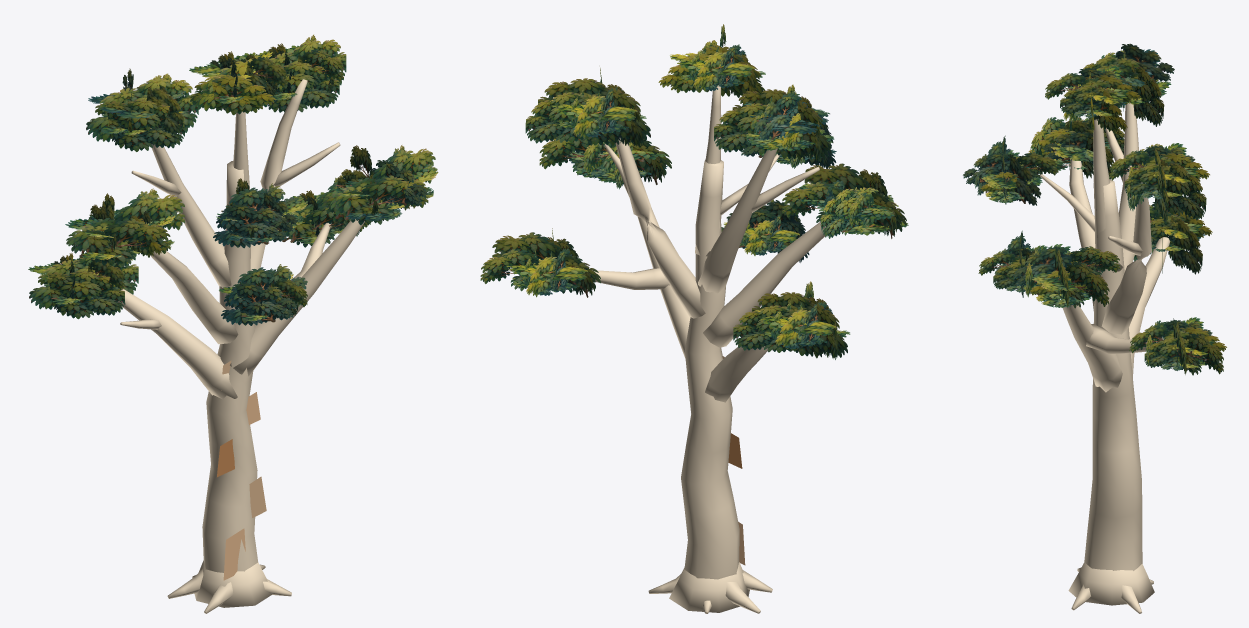
File: TREE_EUCALYPTUS_001_v006_LOD_GAMEPLAY.glb
3 views of the same model, side by side, from view 1: azimuth 30°, elevation 25°; view 2: azimuth 150°, elevation 25°; view 3: azimuth 270°, elevation 25° (orthographic). The views are drawn at different scales.
Visible parts, largest first — view 1: TREE_EUCALYPTUS_001_GAMEPLAY_AUTHORED_FOLIAGE_ISLANDS, TREE_EUCALYPTUS_001_GAMEPLAY_MAIN_TRUNK, TREE_EUCALYPTUS_001_GAMEPLAY_LOWER_LEFT_SWEEP, TREE_EUCALYPTUS_001_GAMEPLAY_MID_RIGHT_SWEEP, TREE_EUCALYPTUS_001_GAMEPLAY_UPPER_LEFT_FORK, TREE_EUCALYPTUS_001_GAMEPLAY_MID_LEFT_ARCH, TREE_EUCALYPTUS_001_GAMEPLAY_GRAPHIC_BARK, TREE_EUCALYPTUS_001_GAMEPLAY_SCULPTED_ROOT_COLLAR, TREE_EUCALYPTUS_001_GAMEPLAY_UPPER_RIGHT_ARCH, TREE_EUCALYPTUS_001_GAMEPLAY_CENTRAL_CROWN_FORK, TREE_EUCALYPTUS_001_GAMEPLAY_RIGHT_TOP_SUPPORT; view 2: TREE_EUCALYPTUS_001_GAMEPLAY_AUTHORED_FOLIAGE_ISLANDS, TREE_EUCALYPTUS_001_GAMEPLAY_MAIN_TRUNK, TREE_EUCALYPTUS_001_GAMEPLAY_UPPER_RIGHT_ARCH, TREE_EUCALYPTUS_001_GAMEPLAY_MID_LEFT_ARCH, TREE_EUCALYPTUS_001_GAMEPLAY_UPPER_LEFT_FORK, TREE_EUCALYPTUS_001_GAMEPLAY_SCULPTED_ROOT_COLLAR, TREE_EUCALYPTUS_001_GAMEPLAY_LOWER_LEFT_SWEEP, TREE_EUCALYPTUS_001_GAMEPLAY_MID_RIGHT_SWEEP, TREE_EUCALYPTUS_001_GAMEPLAY_LOWER_RIGHT_REACH, TREE_EUCALYPTUS_001_GAMEPLAY_CENTRAL_CROWN_FORK, TREE_EUCALYPTUS_001_GAMEPLAY_LEFT_TOP_SUPPORT; view 3: TREE_EUCALYPTUS_001_GAMEPLAY_AUTHORED_FOLIAGE_ISLANDS, TREE_EUCALYPTUS_001_GAMEPLAY_MAIN_TRUNK, TREE_EUCALYPTUS_001_GAMEPLAY_UPPER_RIGHT_ARCH, TREE_EUCALYPTUS_001_GAMEPLAY_SCULPTED_ROOT_COLLAR, TREE_EUCALYPTUS_001_GAMEPLAY_MID_RIGHT_SWEEP, TREE_EUCALYPTUS_001_GAMEPLAY_UPPER_LEFT_FORK, TREE_EUCALYPTUS_001_GAMEPLAY_CENTRAL_CROWN_FORK, TREE_EUCALYPTUS_001_GAMEPLAY_LOWER_LEFT_SWEEP, TREE_EUCALYPTUS_001_GAMEPLAY_MID_LEFT_ARCH, TREE_EUCALYPTUS_001_GAMEPLAY_LOWER_RIGHT_REACH, TREE_EUCALYPTUS_001_GAMEPLAY_CENTRE_BACK_SUPPORT.
Part boxes in pixels (<box>): TREE_EUCALYPTUS_001_GAMEPLAY_AUTHORED_FOLIAGE_ISLANDS: <box>28,34,438,325</box>; TREE_EUCALYPTUS_001_GAMEPLAY_MAIN_TRUNK: <box>202,161,257,572</box>; TREE_EUCALYPTUS_001_GAMEPLAY_LOWER_LEFT_SWEEP: <box>117,289,237,399</box>; TREE_EUCALYPTUS_001_GAMEPLAY_MID_RIGHT_SWEEP: <box>230,219,364,376</box>; TREE_EUCALYPTUS_001_GAMEPLAY_UPPER_LEFT_FORK: <box>151,144,231,287</box>; TREE_EUCALYPTUS_001_GAMEPLAY_MID_LEFT_ARCH: <box>150,251,238,344</box>; TREE_EUCALYPTUS_001_GAMEPLAY_GRAPHIC_BARK: <box>217,360,266,580</box>; TREE_EUCALYPTUS_001_GAMEPLAY_SCULPTED_ROOT_COLLAR: <box>194,560,271,607</box>; TREE_EUCALYPTUS_001_GAMEPLAY_UPPER_RIGHT_ARCH: <box>250,79,307,270</box>; TREE_EUCALYPTUS_001_GAMEPLAY_CENTRAL_CROWN_FORK: <box>233,111,249,189</box>; TREE_EUCALYPTUS_001_GAMEPLAY_RIGHT_TOP_SUPPORT: <box>273,142,340,186</box>; TREE_EUCALYPTUS_001_GAMEPLAY_AUTHORED_FOLIAGE_ISLANDS: <box>480,24,908,359</box>; TREE_EUCALYPTUS_001_GAMEPLAY_MAIN_TRUNK: <box>681,159,739,579</box>; TREE_EUCALYPTUS_001_GAMEPLAY_UPPER_RIGHT_ARCH: <box>615,138,705,318</box>; TREE_EUCALYPTUS_001_GAMEPLAY_MID_LEFT_ARCH: <box>703,222,825,347</box>; TREE_EUCALYPTUS_001_GAMEPLAY_UPPER_LEFT_FORK: <box>698,136,782,293</box>; TREE_EUCALYPTUS_001_GAMEPLAY_SCULPTED_ROOT_COLLAR: <box>669,562,749,612</box>; TREE_EUCALYPTUS_001_GAMEPLAY_LOWER_LEFT_SWEEP: <box>705,346,767,402</box>; TREE_EUCALYPTUS_001_GAMEPLAY_MID_RIGHT_SWEEP: <box>615,167,690,358</box>; TREE_EUCALYPTUS_001_GAMEPLAY_LOWER_RIGHT_REACH: <box>592,268,669,289</box>; TREE_EUCALYPTUS_001_GAMEPLAY_CENTRAL_CROWN_FORK: <box>695,85,721,256</box>; TREE_EUCALYPTUS_001_GAMEPLAY_LEFT_TOP_SUPPORT: <box>751,167,819,212</box>; TREE_EUCALYPTUS_001_GAMEPLAY_AUTHORED_FOLIAGE_ISLANDS: <box>963,43,1226,375</box>; TREE_EUCALYPTUS_001_GAMEPLAY_MAIN_TRUNK: <box>1084,179,1142,570</box>; TREE_EUCALYPTUS_001_GAMEPLAY_UPPER_RIGHT_ARCH: <box>1101,182,1151,334</box>; TREE_EUCALYPTUS_001_GAMEPLAY_SCULPTED_ROOT_COLLAR: <box>1068,562,1154,605</box>; TREE_EUCALYPTUS_001_GAMEPLAY_MID_RIGHT_SWEEP: <box>1062,305,1122,392</box>; TREE_EUCALYPTUS_001_GAMEPLAY_UPPER_LEFT_FORK: <box>1118,103,1138,271</box>; TREE_EUCALYPTUS_001_GAMEPLAY_CENTRAL_CROWN_FORK: <box>1093,119,1123,272</box>; TREE_EUCALYPTUS_001_GAMEPLAY_LOWER_LEFT_SWEEP: <box>1129,236,1170,376</box>; TREE_EUCALYPTUS_001_GAMEPLAY_MID_LEFT_ARCH: <box>1069,160,1129,338</box>; TREE_EUCALYPTUS_001_GAMEPLAY_LOWER_RIGHT_REACH: <box>1086,324,1156,354</box>; TREE_EUCALYPTUS_001_GAMEPLAY_CENTRE_BACK_SUPPORT: <box>1040,174,1094,231</box>.
Size of the model in its own units: 9.62 by 13.95 by 6.58.
Materials: 5 (1 with a texture image).
